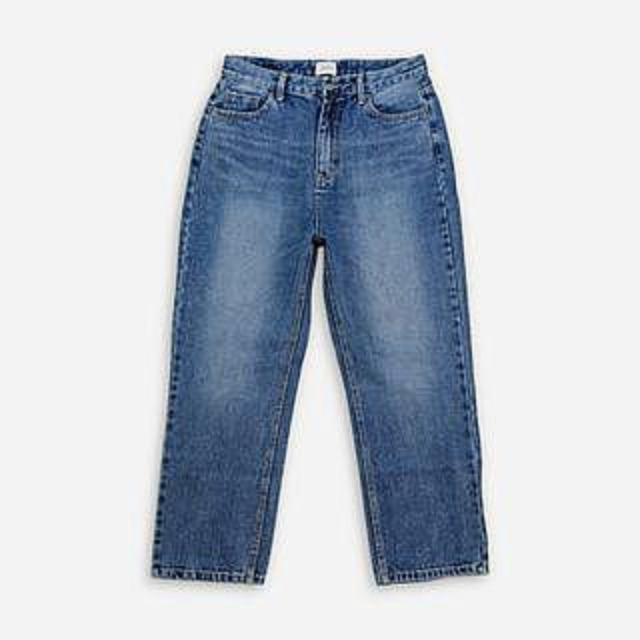TROUSER: (135, 38, 512, 594)
